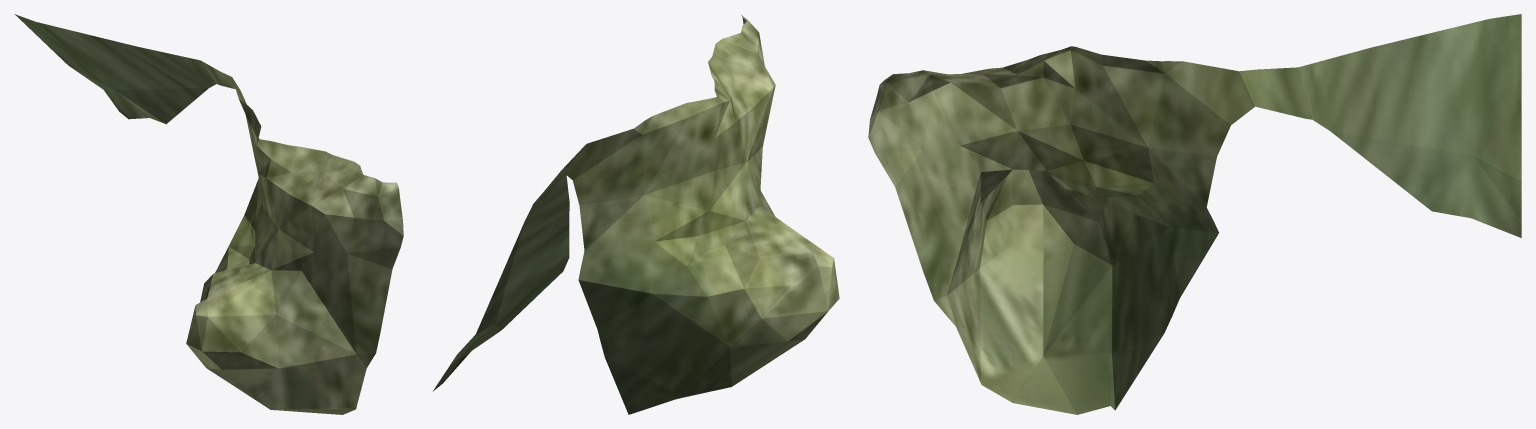
3 renders of one model, left to right at view 1: azimuth 30°, elevation 25°; view 2: azimuth 150°, elevation 25°; view 3: azimuth 270°, elevation 25°, orthographic. The views are drawn at different scales.
Size of the model in its own units: 0.9842 by 1.84 by 3.26.
1 material, 1 textured.
